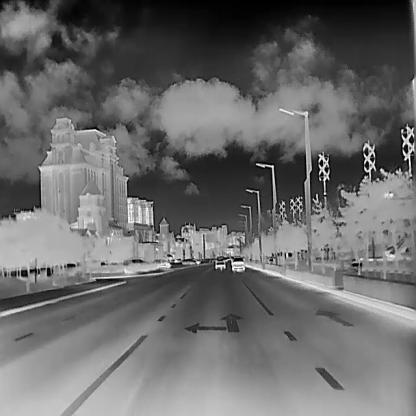car: (124, 257, 158, 274), (230, 256, 244, 271), (152, 258, 171, 268), (214, 255, 225, 268), (180, 257, 196, 263)
